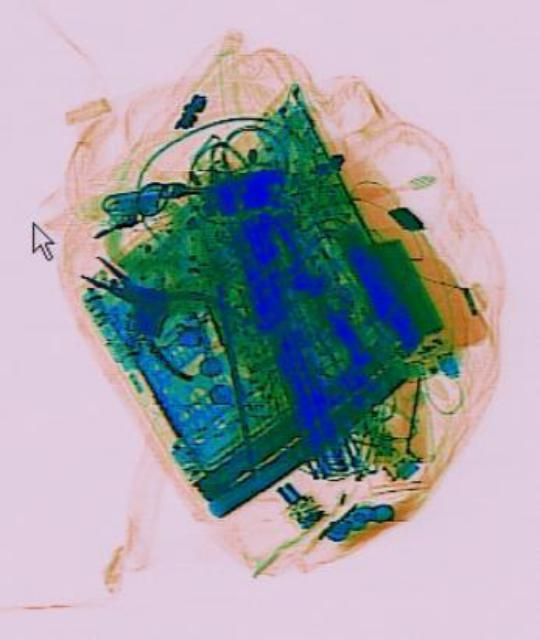Pliers: (64, 223, 249, 394)
